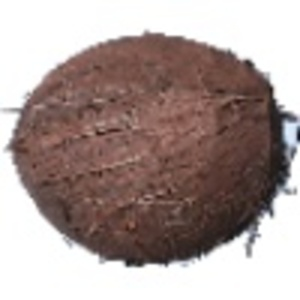coco: (9, 32, 300, 268)
